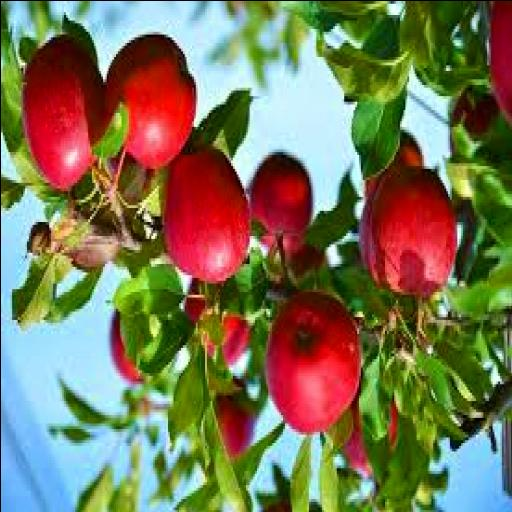apple: (267, 291, 360, 433), (24, 34, 104, 190), (361, 166, 457, 296), (105, 34, 195, 167), (165, 149, 251, 282), (250, 152, 312, 240), (365, 132, 423, 198), (217, 395, 255, 458), (491, 1, 511, 120), (111, 311, 143, 383), (450, 90, 498, 137), (107, 152, 149, 201), (345, 401, 372, 475), (222, 314, 251, 363), (287, 241, 325, 276), (395, 132, 423, 165), (265, 501, 292, 511)
